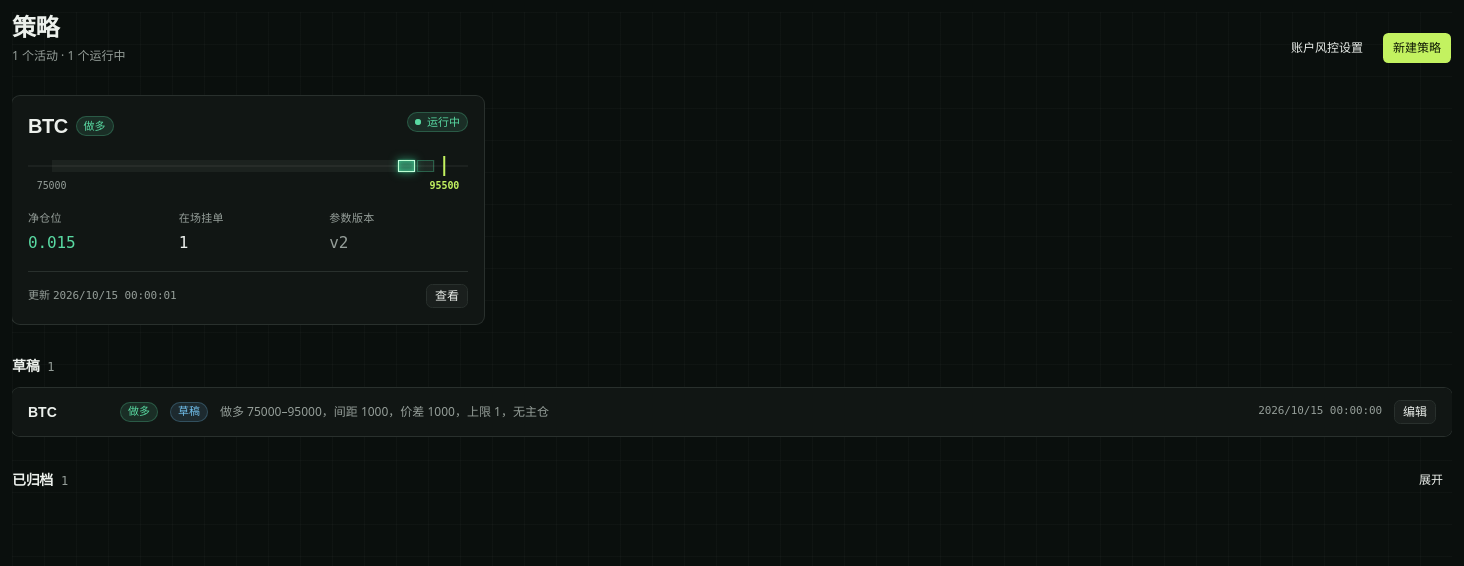
策略列表 › 显示标的、状态、净仓位和在场挂单，草稿单独一栏
expect the text "运行中" is shown: met, box [407, 112, 468, 132]
expect the text "0.015" is shown: met, box [28, 232, 75, 252]
Click the button "展开". click: coordinates (1431, 480)
box: [1410, 468, 1452, 492]
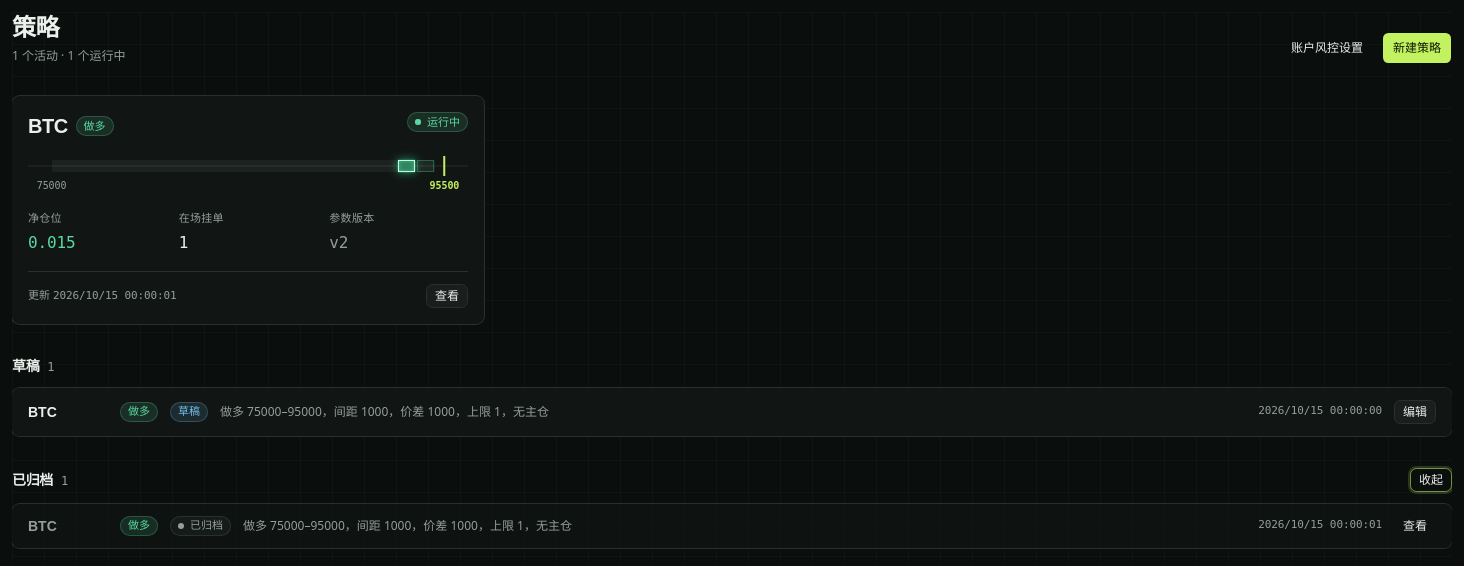
expect the 3rd text "做多" is shown: met, box [120, 516, 158, 536]
expect the 2nd button "查看" is shown: met, box [1394, 514, 1436, 538]
